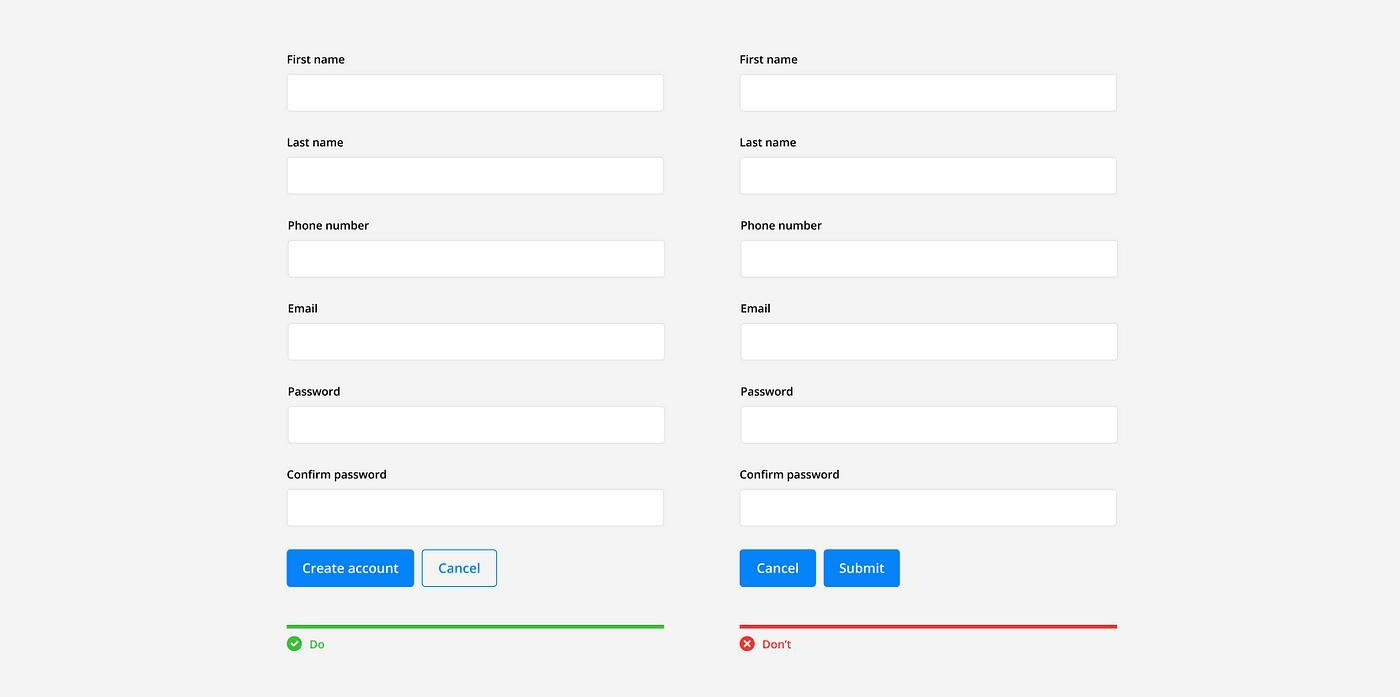button: (287, 550, 416, 589), (824, 548, 903, 589), (738, 550, 818, 590), (423, 549, 499, 589)
input: (742, 321, 1122, 366), (741, 405, 1121, 447), (287, 73, 666, 115), (739, 488, 1122, 529), (288, 323, 668, 364), (286, 238, 668, 278), (287, 157, 668, 197), (286, 407, 668, 446), (286, 489, 668, 527), (739, 75, 1120, 113), (741, 244, 1121, 279), (740, 161, 1120, 196)
label: (288, 466, 391, 482), (286, 133, 345, 152), (288, 219, 372, 232), (741, 470, 841, 480), (286, 385, 344, 402), (286, 51, 349, 66), (741, 221, 826, 232), (740, 53, 801, 68), (741, 386, 799, 400), (740, 138, 799, 150), (288, 302, 320, 317), (742, 301, 771, 316)
